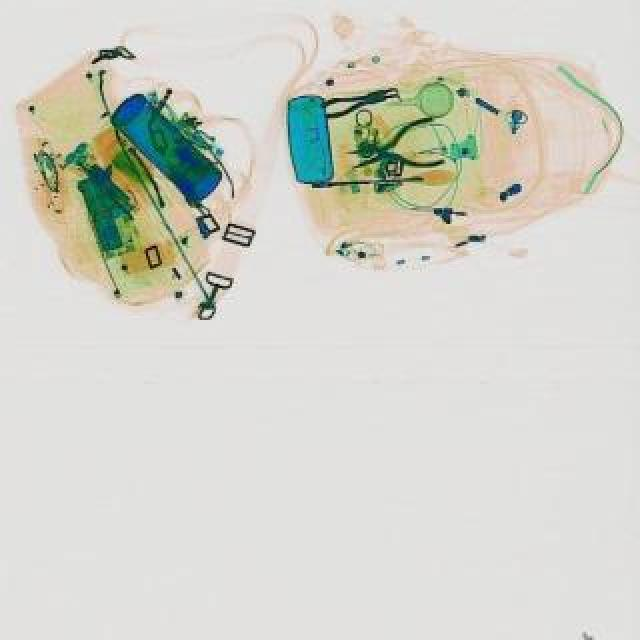wrench: (346, 118, 448, 182), (322, 84, 404, 124)
